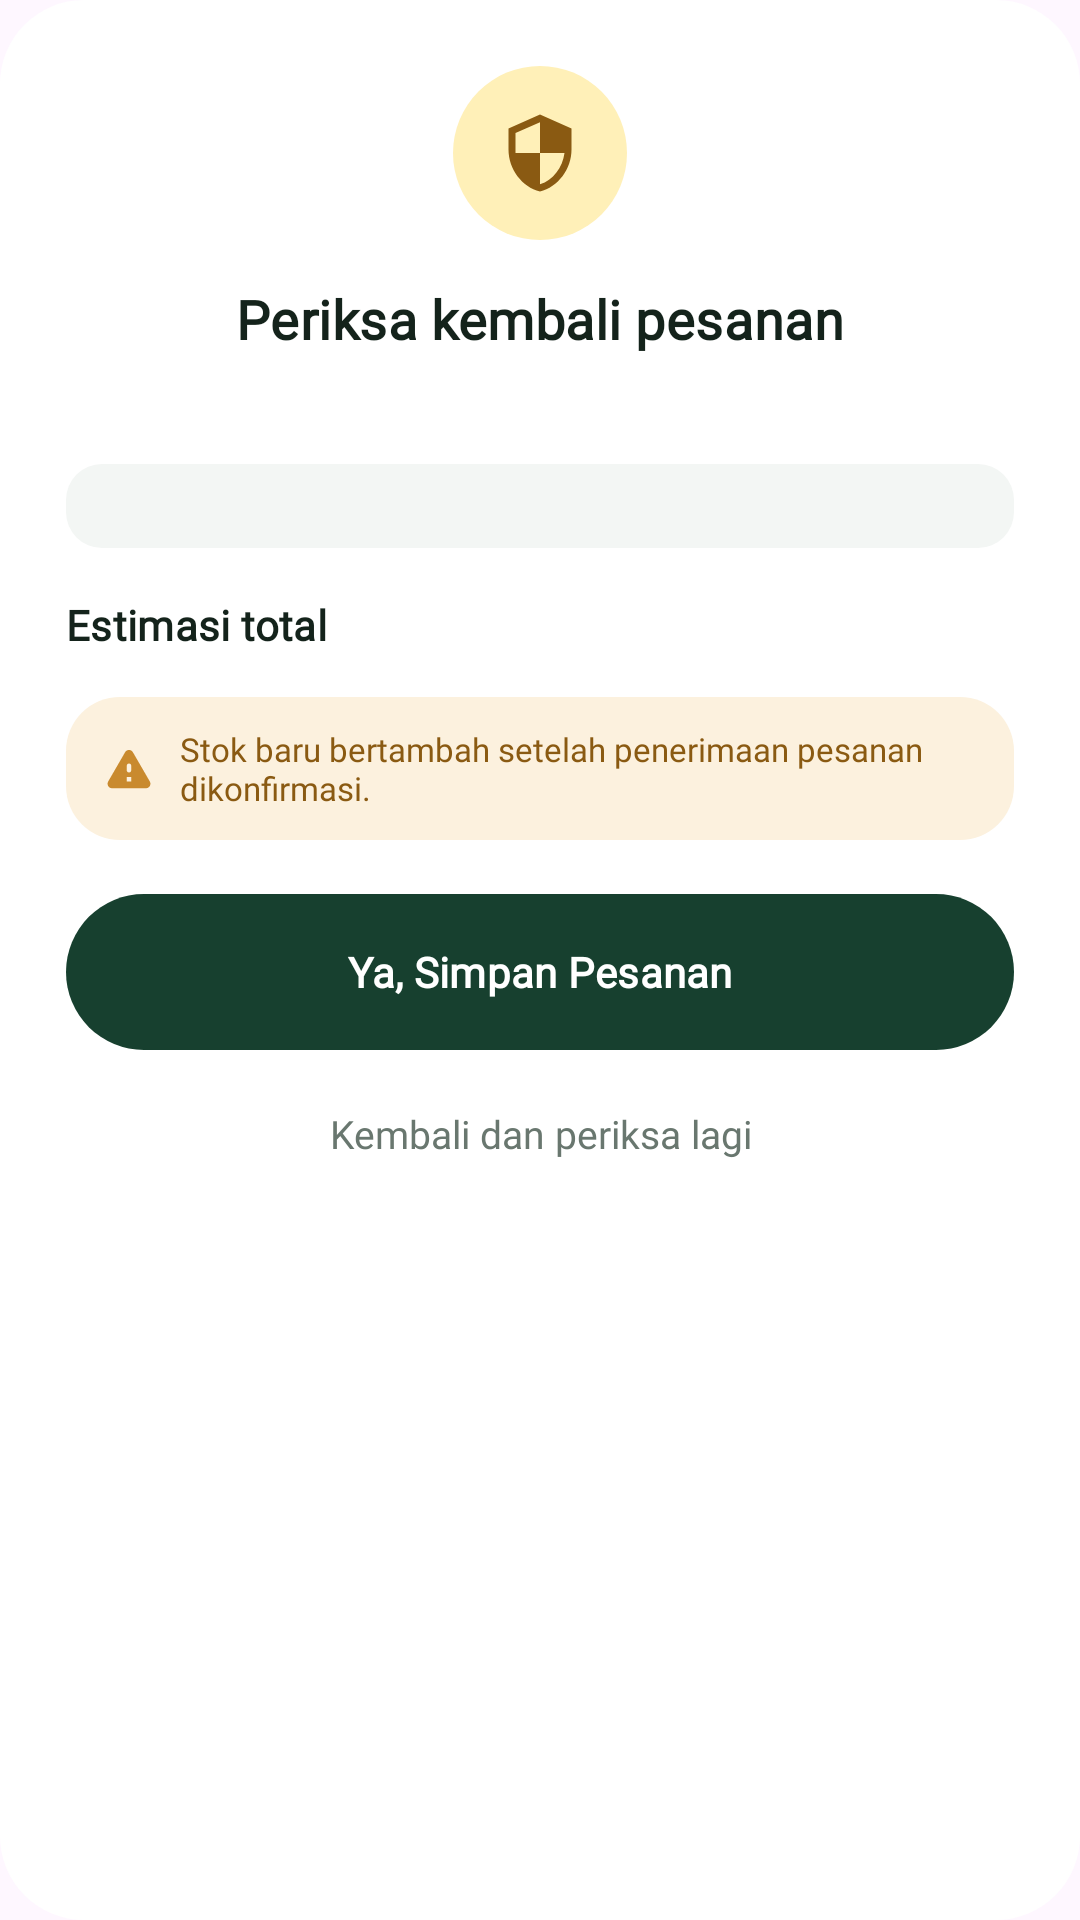

Where to tap for icons on this 1080w x 1920h app screen, as [x,y]:
shield check: [540,153]
warning: [129,769]
